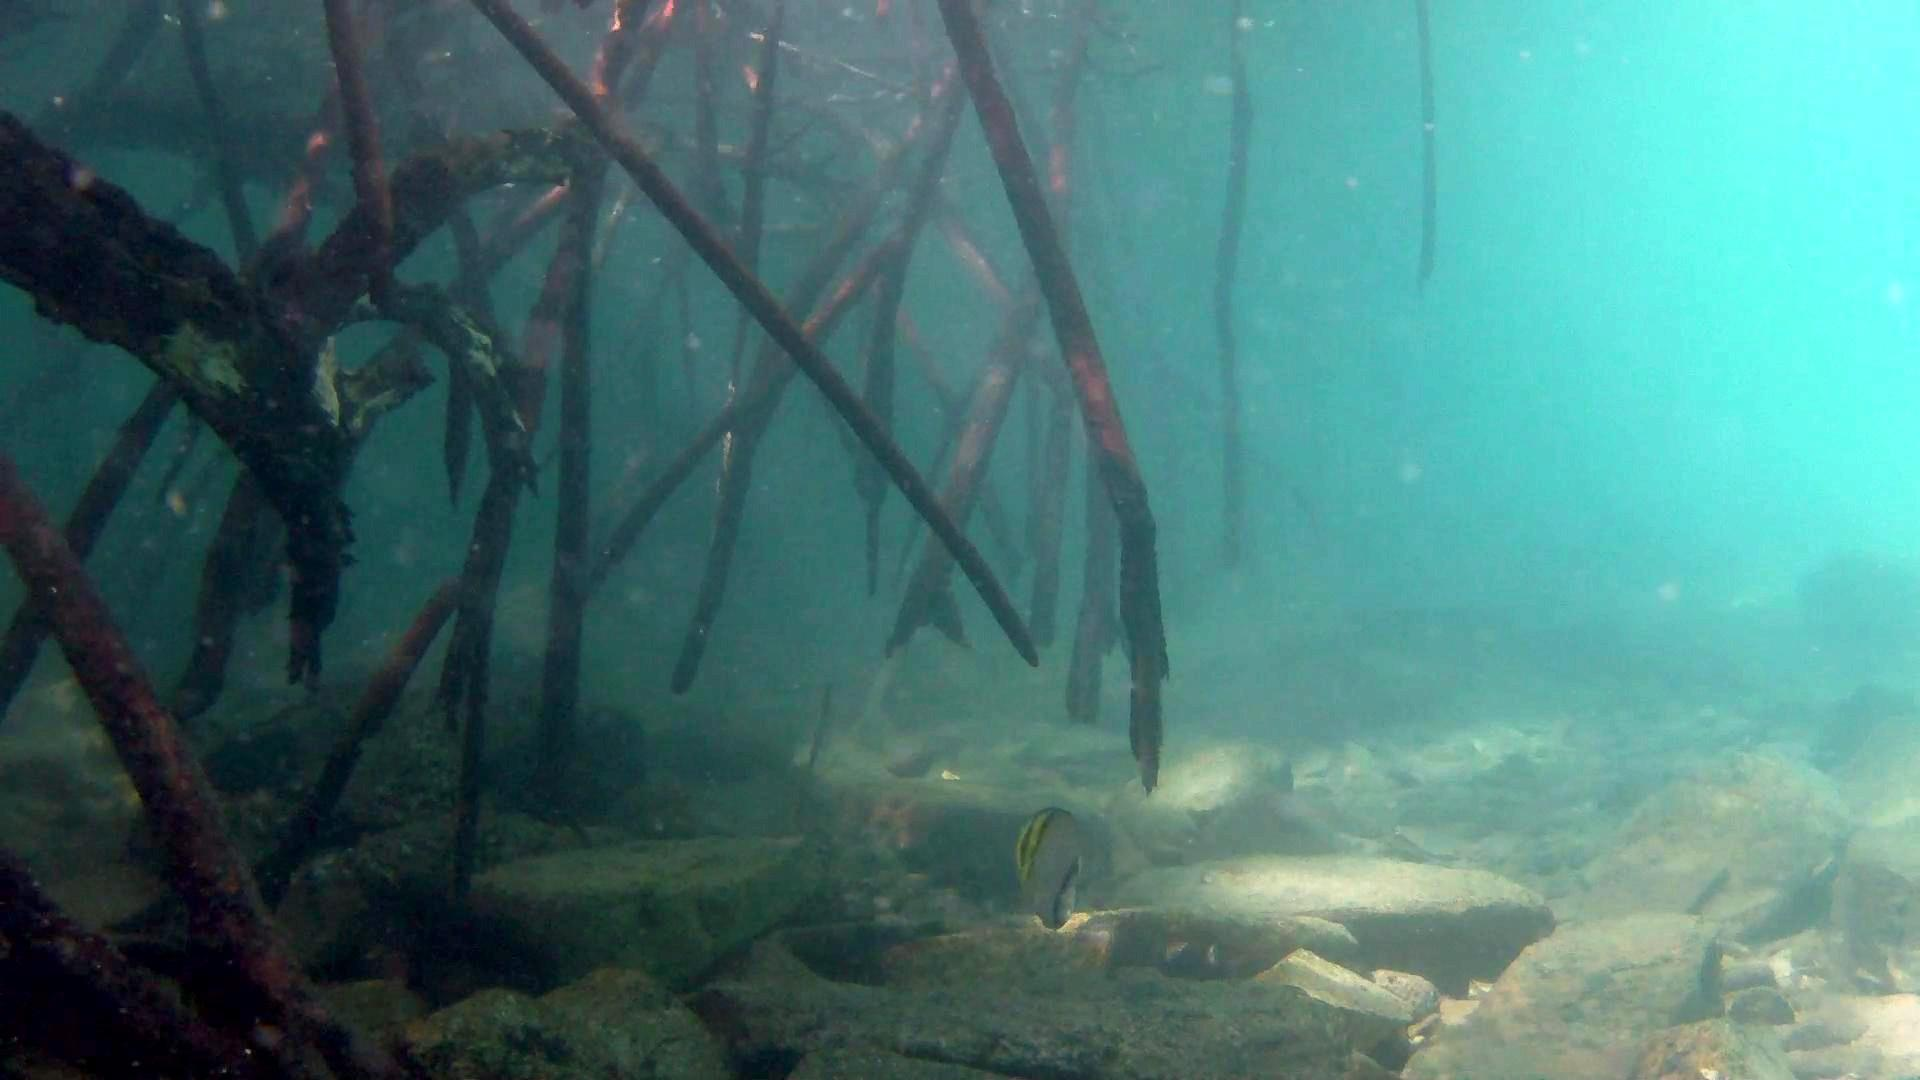chaetodon vagabundus: (1015, 806, 1089, 932)
